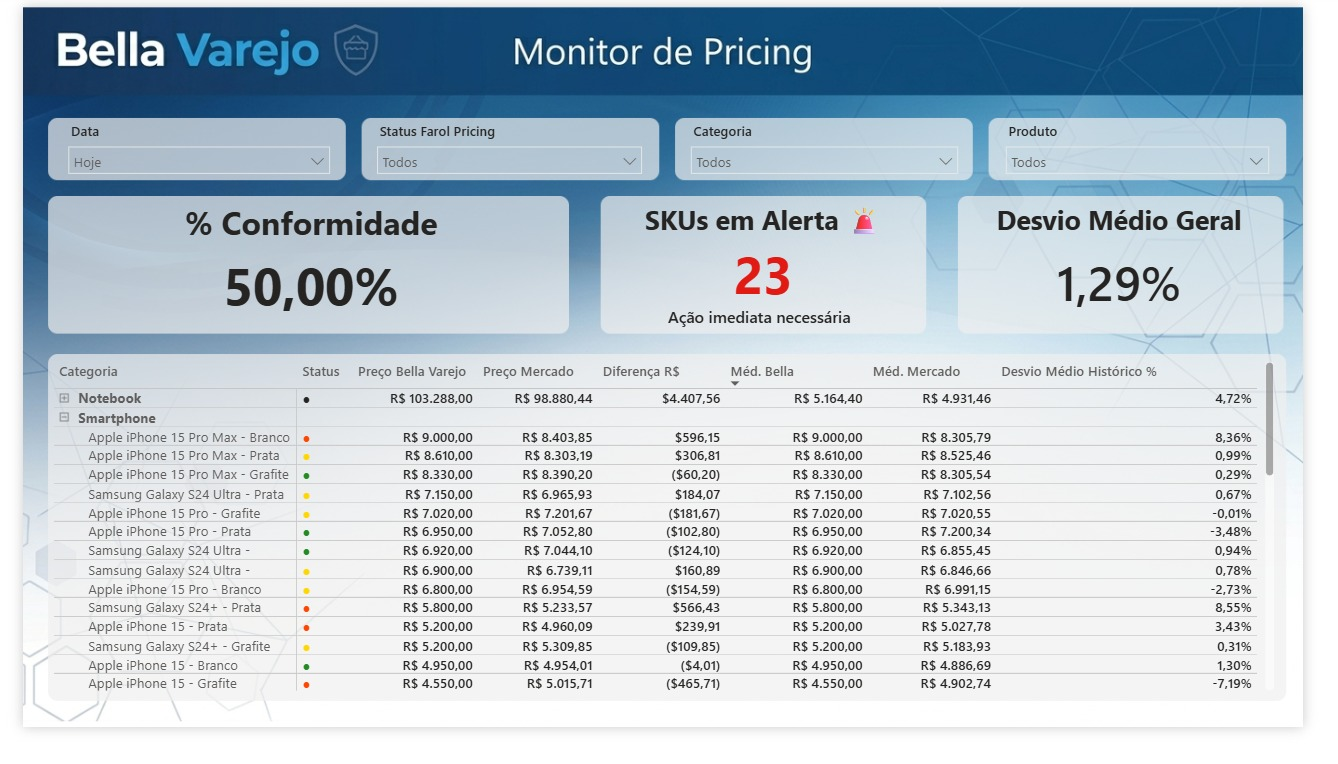

The dashboard page shown, as its layout file describes it:
{"tool":"powerbi","page":{"name":"Página 1","canvas":[1280,720],"ordinal":0},"visuals":[{"type":"cardVisual","title":"% Conformidade","fields":{"Data":["_Medidas.% Compliance"]},"box":[34.4,193.3,506.7,127.8],"z":0},{"type":"slicer","fields":{"Values":["vw_posicionamento_preco.categoria"]},"box":[657.8,110,287.8,58.9],"z":1000},{"type":"slicer","fields":{"Values":["vw_posicionamento_preco.status_farol_pricing"]},"box":[343.3,110,285.6,58.9],"z":2000},{"type":"pivotTable","fields":{"Rows":["vw_posicionamento_preco.categoria","vw_posicionamento_preco.nome_produto"],"Values":["_Medidas.Farol Bolinha","Sum(vw_posicionamento_preco.preco_bella_varejo)","Sum(vw_posicionamento_preco.preco_mercado)","Sum(vw_posicionamento_preco.diferenca_reais)","_Medidas.Preço Médio Histórico Bella","_Medidas.Preço Médio Histórico Mercado","_Medidas.Desvio Médio Histórico %"]},"box":[26.2,350,1230,338.8],"z":3000},{"type":"slicer","fields":{"Values":["dCalendario.Data Filtro Dinâmico"]},"box":[34.4,110,282.2,58.9],"z":4000},{"type":"slicer","fields":{"Values":["vw_posicionamento_preco.nome_produto"]},"box":[972.2,110,283.3,58.9],"z":5000},{"type":"cardVisual","title":"SKUs em Alerta 🚨","fields":{"Data":["_Medidas.Produtos com Problema"]},"box":[586.7,193.3,308.9,127.8],"z":6000},{"type":"cardVisual","title":"Desvio Médio Geral","fields":{"Data":["_Medidas.Desvio de Preço %"]},"box":[945.6,193.3,302.2,127.8],"z":7000},{"type":"textbox","box":[640,293.8,202.5,38.8],"z":8000}]}

Visuals, with their boxes in screenshot pixels (x1, y1, x2, y2), scaled from the page's 1280x720 canvas onto the 1338x764 screenshot:
"% Conformidade" cardVisual: left=36, top=205, right=566, bottom=341
slicer - vw_posicionamento_preco.categoria: left=688, top=117, right=988, bottom=179
slicer - vw_posicionamento_preco.status_farol_pricing: left=359, top=117, right=657, bottom=179
pivotTable - vw_posicionamento_preco.categoria x vw_posicionamento_preco.nome_produto: left=27, top=371, right=1313, bottom=731
slicer - dCalendario.Data Filtro Dinâmico: left=36, top=117, right=331, bottom=179
slicer - vw_posicionamento_preco.nome_produto: left=1016, top=117, right=1312, bottom=179
"SKUs em Alerta 🚨" cardVisual: left=613, top=205, right=936, bottom=341
"Desvio Médio Geral" cardVisual: left=988, top=205, right=1304, bottom=341
textbox: left=669, top=312, right=881, bottom=353
